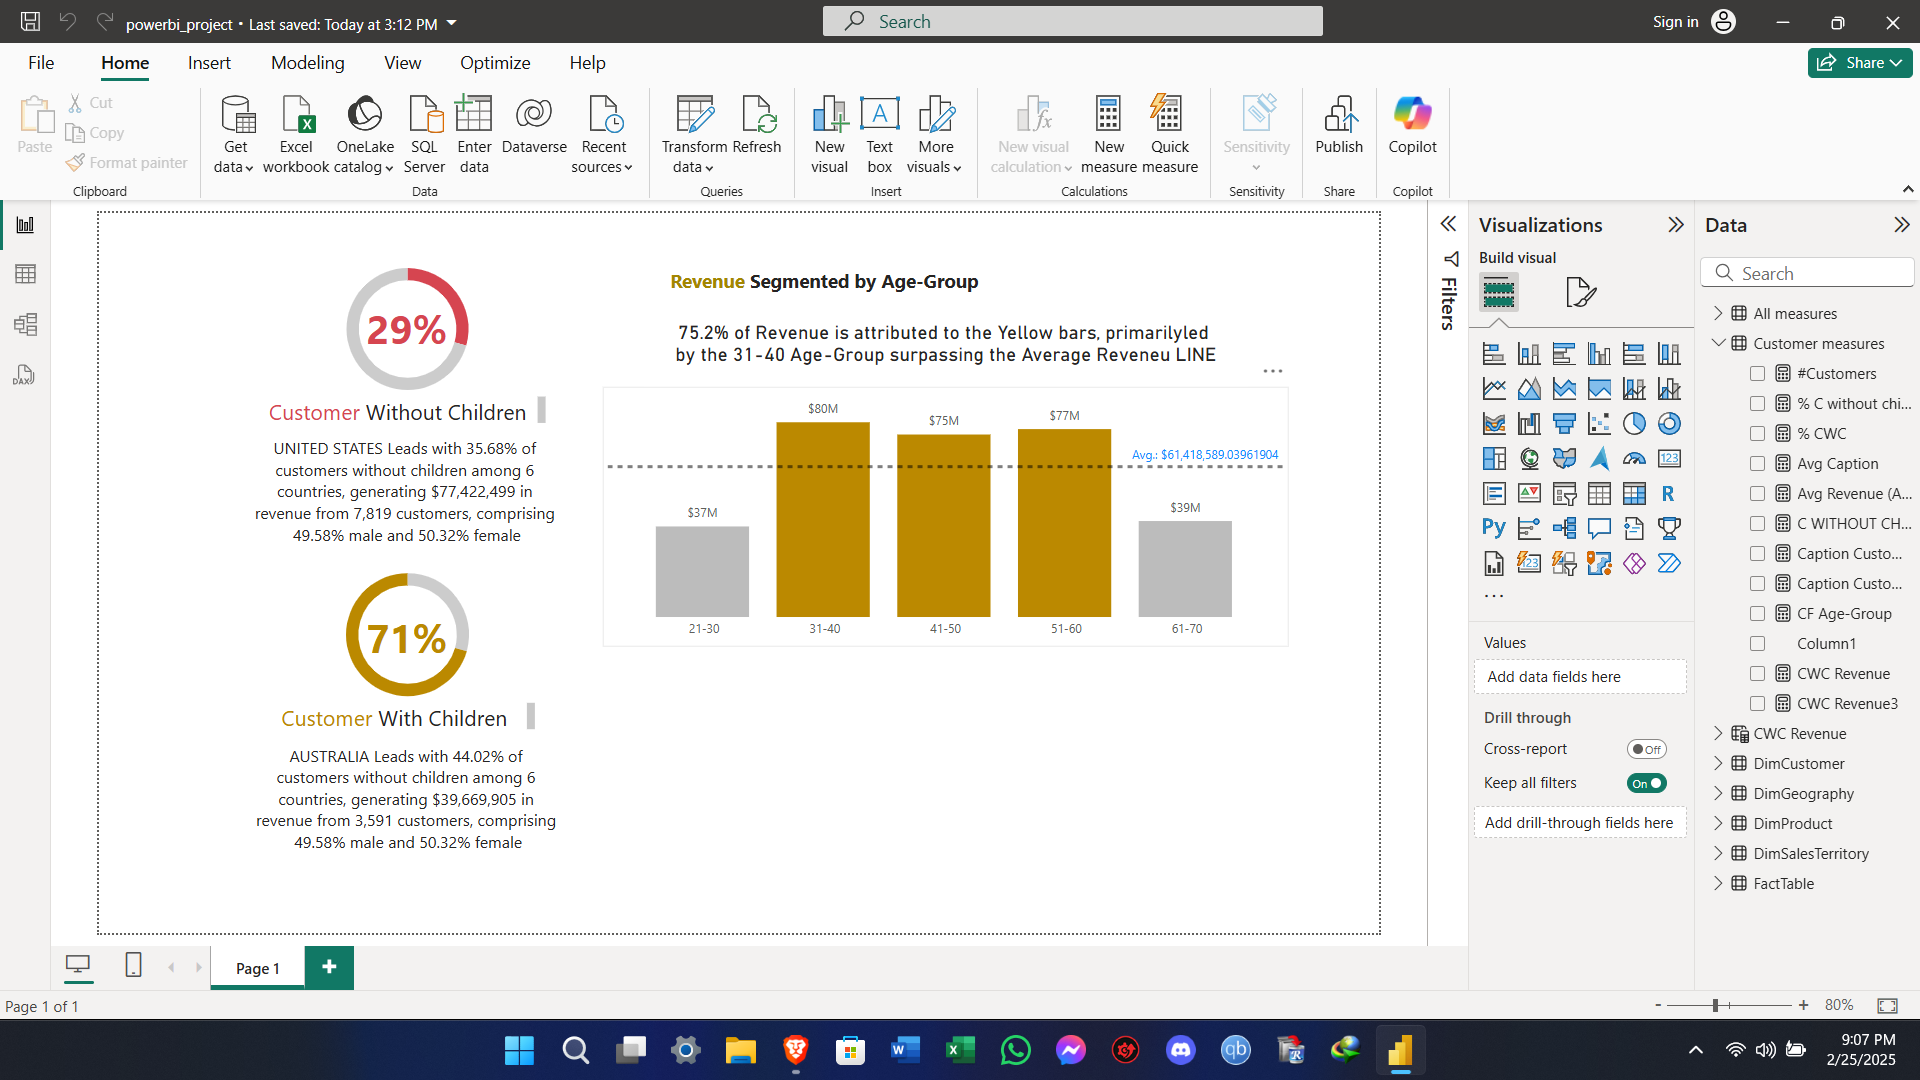

The page's visual inventory and layout, read from the dashboard file:
{"tool":"powerbi","page":{"name":"Page 1","canvas":[1280,720],"ordinal":0},"visuals":[{"type":"clusteredColumnChart","fields":{"Category":["DimCustomer.Age Categories"],"Y":["All measures.Total Revenue"]},"box":[665,176.2,595,211.2],"z":0},{"type":"card","fields":{"Values":["Customer measures.Avg Caption"]},"box":[666.2,100,593.8,85],"z":1000},{"type":"donutChart","fields":{"Y":["Customer measures.% C without children","Customer measures.% CWC"]},"box":[417.5,75,182.5,136.2],"z":2000},{"type":"donutChart","fields":{"Y":["Customer measures.% C without children","Customer measures.% CWC"]},"box":[415,383.8,182.5,136.2],"z":3000},{"type":"card","fields":{"Values":["Customer measures.% C without children"]},"box":[476.2,110,65,66.2],"z":4000},{"type":"card","fields":{"Values":["Customer measures.% CWC"]},"box":[473.8,420,66.2,62.5],"z":5000},{"type":"textbox","box":[365,192.5,295,37.5],"z":6000},{"type":"textbox","box":[380.3,507.8,263.4,37],"z":7000},{"type":"card","fields":{"Values":["Customer measures.Caption Customer With Children"]},"box":[356.2,528.8,303.8,161.2],"z":8000},{"type":"card","fields":{"Values":["Customer measures.Caption Customer With Children"]},"box":[356.2,225,303.8,155],"z":9000},{"type":"clusteredBarChart","fields":{"Category":["DimCustomer.Customer Type"],"Y":["All measures.Total Revenue"]},"box":[677.5,416.2,286.2,273.8],"z":10000},{"type":"clusteredBarChart","fields":{"Category":["DimCustomer.FullName"],"Y":["Customer measures.Dynamic customers"]},"box":[43.8,475,295,215],"z":11000},{"type":"slicer","fields":{"Values":["Dynamic Customers.Dynamic Customers"]},"box":[263.8,393.8,75,51.2],"z":12000},{"type":"card","fields":{"Values":["Customer measures.% Male"]},"box":[1180,496.2,68.8,55],"z":13000},{"type":"card","fields":{"Values":["Customer measures.% Female"]},"box":[1177.5,623.8,76.2,36.2],"z":14000},{"type":"card","fields":{"Values":["Customer measures.Average Customer Age"]},"box":[191.2,162.5,60,48.8],"z":15000},{"type":"card","fields":{"Values":["Customer measures.#Customers"]},"box":[188.8,292.5,83.8,56.2],"z":16000},{"type":"textbox","box":[188.8,108.8,133.8,53.8],"z":17000},{"type":"textbox","box":[188.8,243.8,120,48.8],"z":18000},{"type":"textbox","box":[1095,582.5,82.5,41.2],"z":19000},{"type":"textbox","box":[1097.5,466.2,67.5,31.2],"z":20000},{"type":"textbox","box":[52.5,397.5,196.2,37.5],"z":21000},{"type":"card","fields":{"Values":["Customer measures.Title top Customers"]},"box":[52.5,426.2,241.2,48.8],"z":22000},{"type":"textbox","box":[997.5,400,246.2,35],"z":23000},{"type":"card","fields":{"Values":["Customer measures.Male Revenue"]},"box":[1095,505,78.8,31.2],"z":24000},{"type":"card","fields":{"Values":["Customer measures.Female Revenue"]},"box":[1097.5,623.8,76.2,31.2],"z":25000},{"type":"textbox","box":[43.8,20,371.2,37.5],"z":26000},{"type":"slicer","fields":{"Values":["DimGeography.Country"]},"box":[1050,8.8,221.2,61.2],"z":27000},{"type":"textbox","box":[677.5,400,196.2,37.5],"z":28000},{"type":"textbox","box":[707.5,75,332.5,37.5],"z":29000},{"type":"actionButton","box":[541.2,8.8,197.5,61.2],"z":30000}]}

Visuals, with their boxes on the page's 1280x720 design canvas (x1, y1, x2, y2). These are canvas units, not pixel positions in the 1920x1080 screenshot, which may show the page scaled, cropped or inside an application window:
clusteredColumnChart - DimCustomer.Age Categories x All measures.Total Revenue: bbox(665, 176, 1260, 387)
card - Customer measures.Avg Caption: bbox(666, 100, 1260, 185)
donutChart - Customer measures.% C without children x Customer measures.% CWC: bbox(418, 75, 600, 211)
donutChart - Customer measures.% C without children x Customer measures.% CWC: bbox(415, 384, 598, 520)
card - Customer measures.% C without children: bbox(476, 110, 541, 176)
card - Customer measures.% CWC: bbox(474, 420, 540, 482)
textbox: bbox(365, 192, 660, 230)
textbox: bbox(380, 508, 644, 545)
card - Customer measures.Caption Customer With Children: bbox(356, 529, 660, 690)
card - Customer measures.Caption Customer With Children: bbox(356, 225, 660, 380)
clusteredBarChart - DimCustomer.Customer Type x All measures.Total Revenue: bbox(678, 416, 964, 690)
clusteredBarChart - DimCustomer.FullName x Customer measures.Dynamic customers: bbox(44, 475, 339, 690)
slicer - Dynamic Customers.Dynamic Customers: bbox(264, 394, 339, 445)
card - Customer measures.% Male: bbox(1180, 496, 1249, 551)
card - Customer measures.% Female: bbox(1178, 624, 1254, 660)
card - Customer measures.Average Customer Age: bbox(191, 162, 251, 211)
card - Customer measures.#Customers: bbox(189, 292, 273, 349)
textbox: bbox(189, 109, 323, 163)
textbox: bbox(189, 244, 309, 293)
textbox: bbox(1095, 582, 1178, 624)
textbox: bbox(1098, 466, 1165, 497)
textbox: bbox(52, 398, 249, 435)
card - Customer measures.Title top Customers: bbox(52, 426, 294, 475)
textbox: bbox(998, 400, 1244, 435)
card - Customer measures.Male Revenue: bbox(1095, 505, 1174, 536)
card - Customer measures.Female Revenue: bbox(1098, 624, 1174, 655)
textbox: bbox(44, 20, 415, 58)
slicer - DimGeography.Country: bbox(1050, 9, 1271, 70)
textbox: bbox(678, 400, 874, 438)
textbox: bbox(708, 75, 1040, 112)
actionButton: bbox(541, 9, 739, 70)
